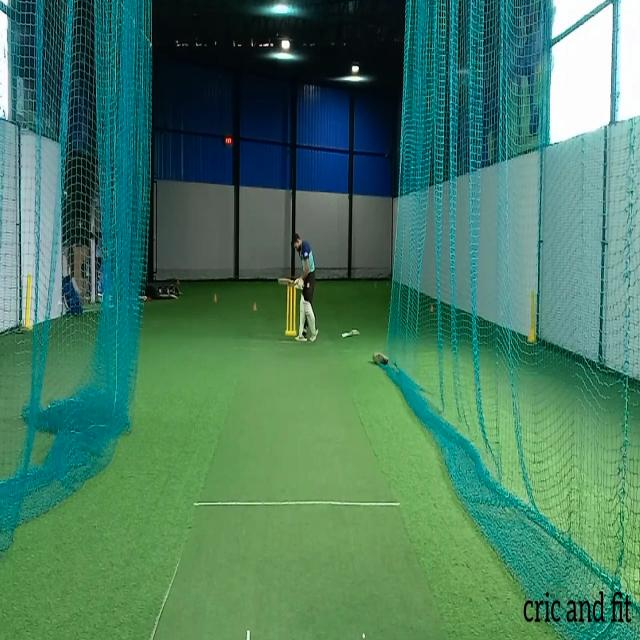batsman: (278, 232, 319, 344)
